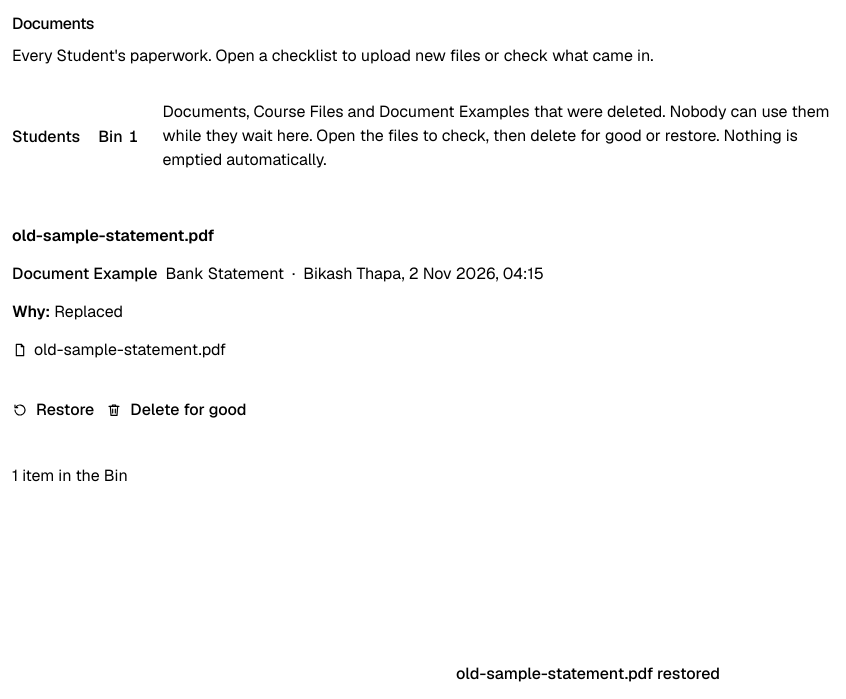
the Bin tab (Admins, issue 79) › says why a Document Example can't be restored to a type that has 3
This screenshot has width=846, height=699.
Click the button named "Restore old-sample-statement.pdf" at (53, 410), box [12,388,94,432]
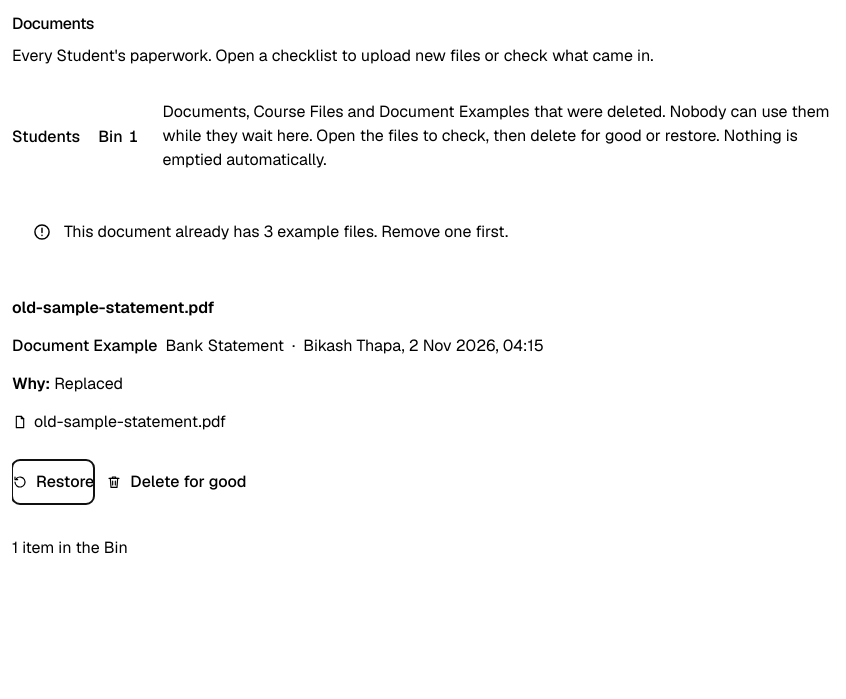
Now the text "This document already has 3 example files. Remove one first." is shown, box [64,220,508,244]
